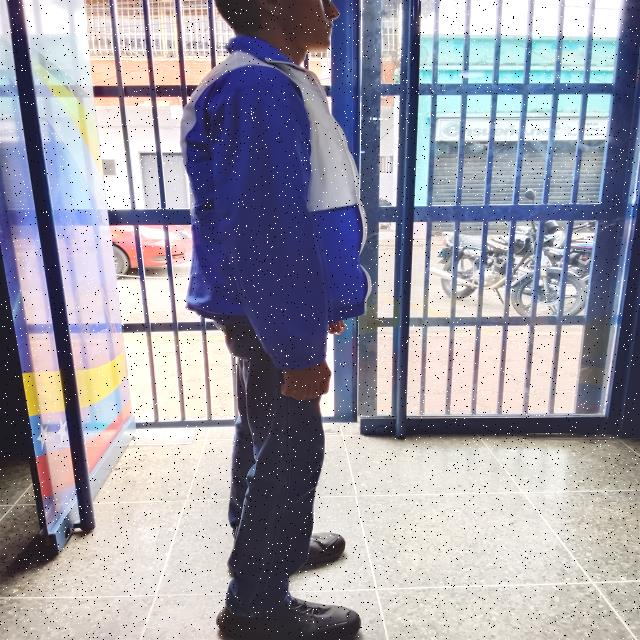chaqueta_unefa: (180, 34, 374, 372)
